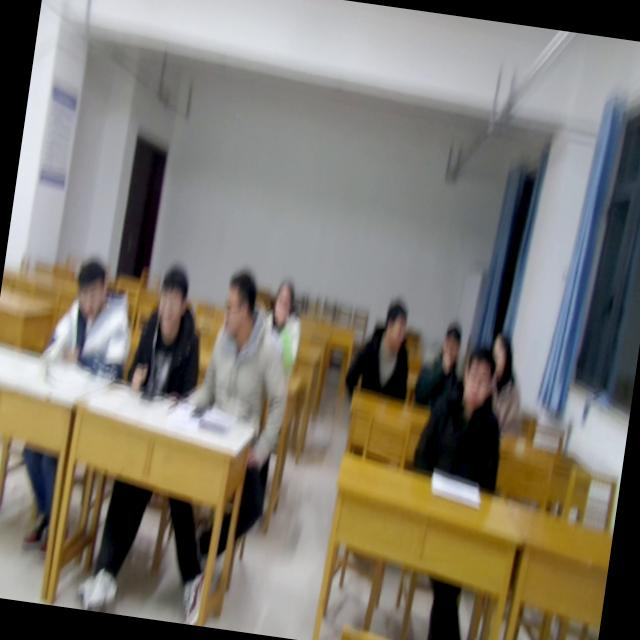down: (66, 252, 116, 324)
lookup: (152, 255, 194, 338), (458, 338, 498, 413), (266, 272, 300, 330), (486, 323, 520, 381), (436, 312, 466, 368)
sit: (180, 262, 306, 428), (404, 336, 520, 496), (123, 258, 215, 408), (41, 251, 142, 382), (342, 292, 421, 404), (410, 315, 477, 415), (478, 328, 530, 436), (256, 276, 311, 376)
